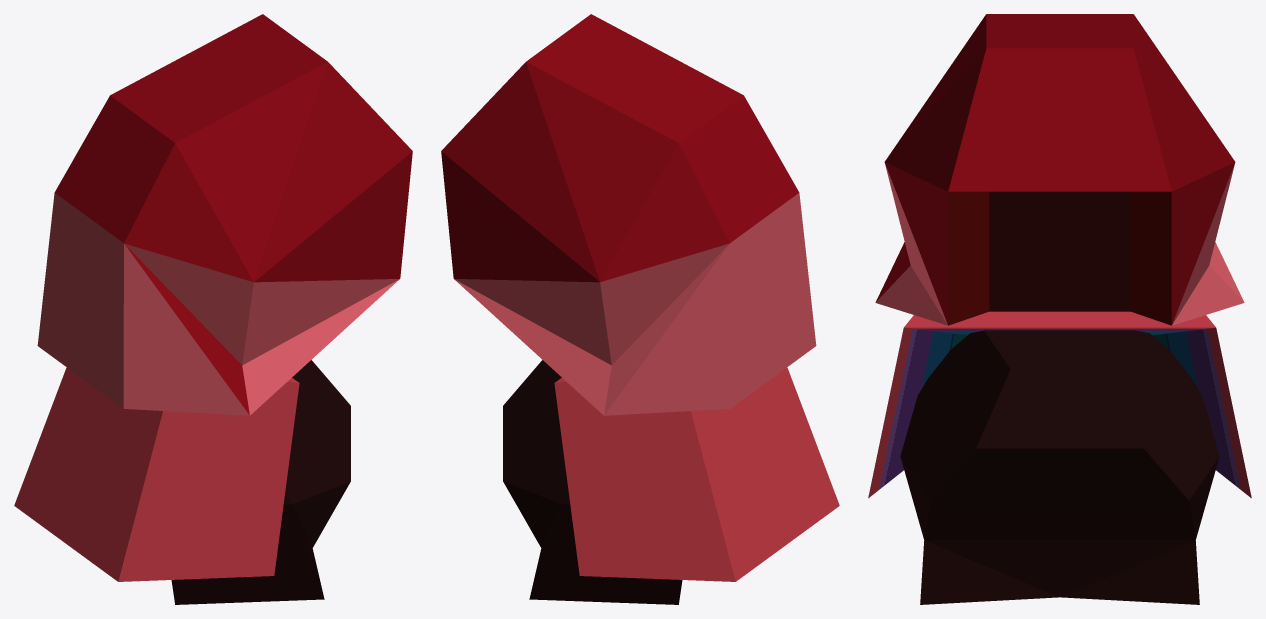
Rendered from wizard.glb.
3 views of the same model, side by side, from view 1: azimuth 30°, elevation 25°; view 2: azimuth 150°, elevation 25°; view 3: azimuth 270°, elevation 25° (orthographic). The views are drawn at different scales.
Visible parts, largest first — view 1: wizard; view 2: wizard; view 3: wizard.
Boxes of the visible parts, x1,y1,x2,y2 form: wizard: (14,14,412,604); wizard: (441,14,839,604); wizard: (868,14,1251,604).
Size of the model in its own units: 1.82 by 2.98 by 1.8.
Materials: 1 (1 with a texture image).
